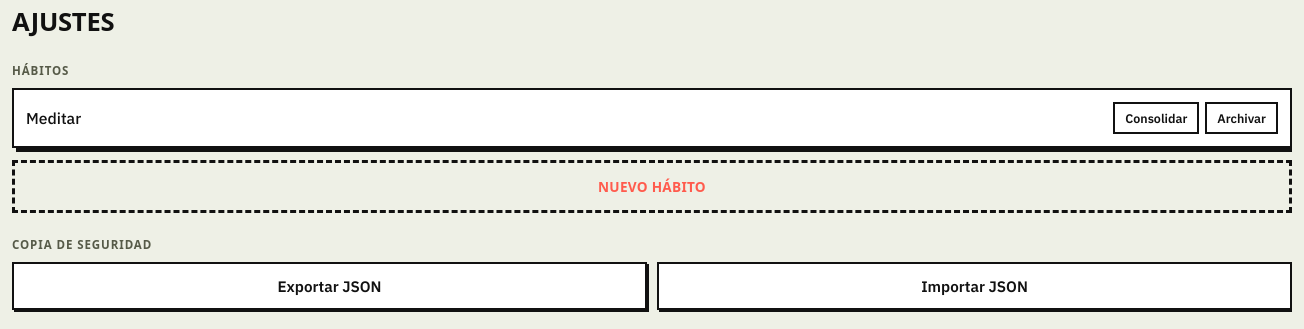
Scenario: SettingsScreen › archiva un hábito y deja de listarlo
What coordinates should you click on to do the following:
click the button with aria-label "archivar meditar"
I would click on:
 (1242, 118)
Its box is [1205,102,1278,134].
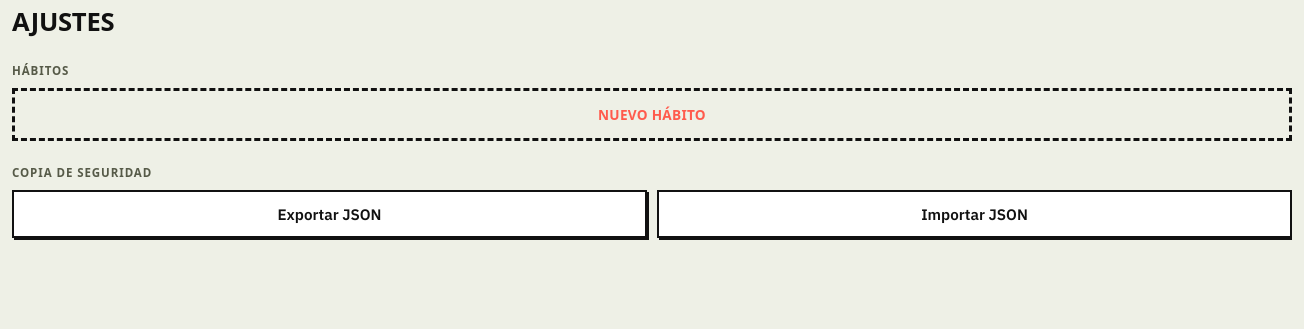
Expected: the text "Meditar" is gone
